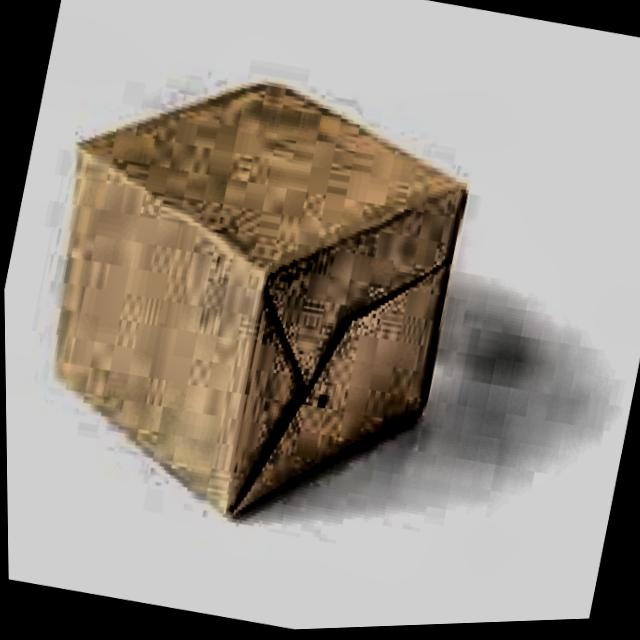Cardbox: (0, 19, 500, 575)
